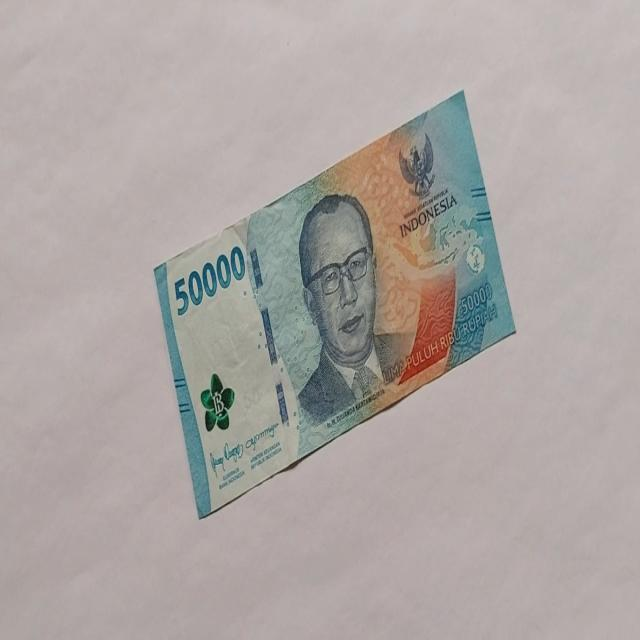lima puluh ribu rupiah: (153, 89, 516, 519), (294, 191, 406, 426), (172, 244, 246, 318)
